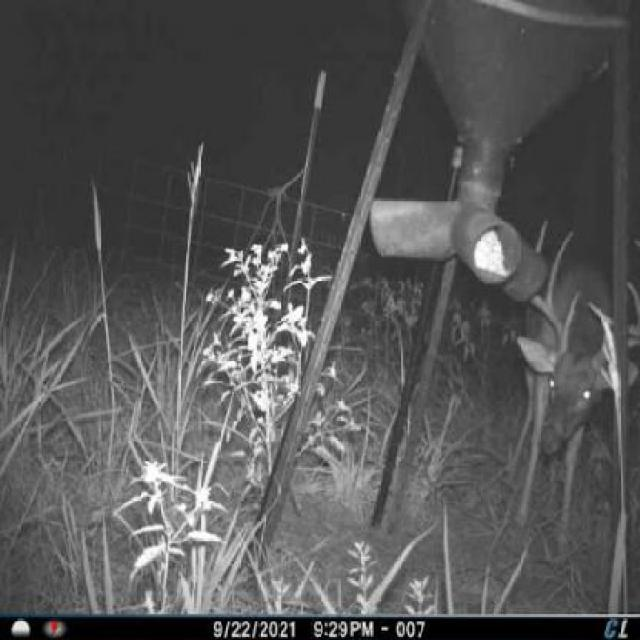Deer: (512, 216, 639, 553)
